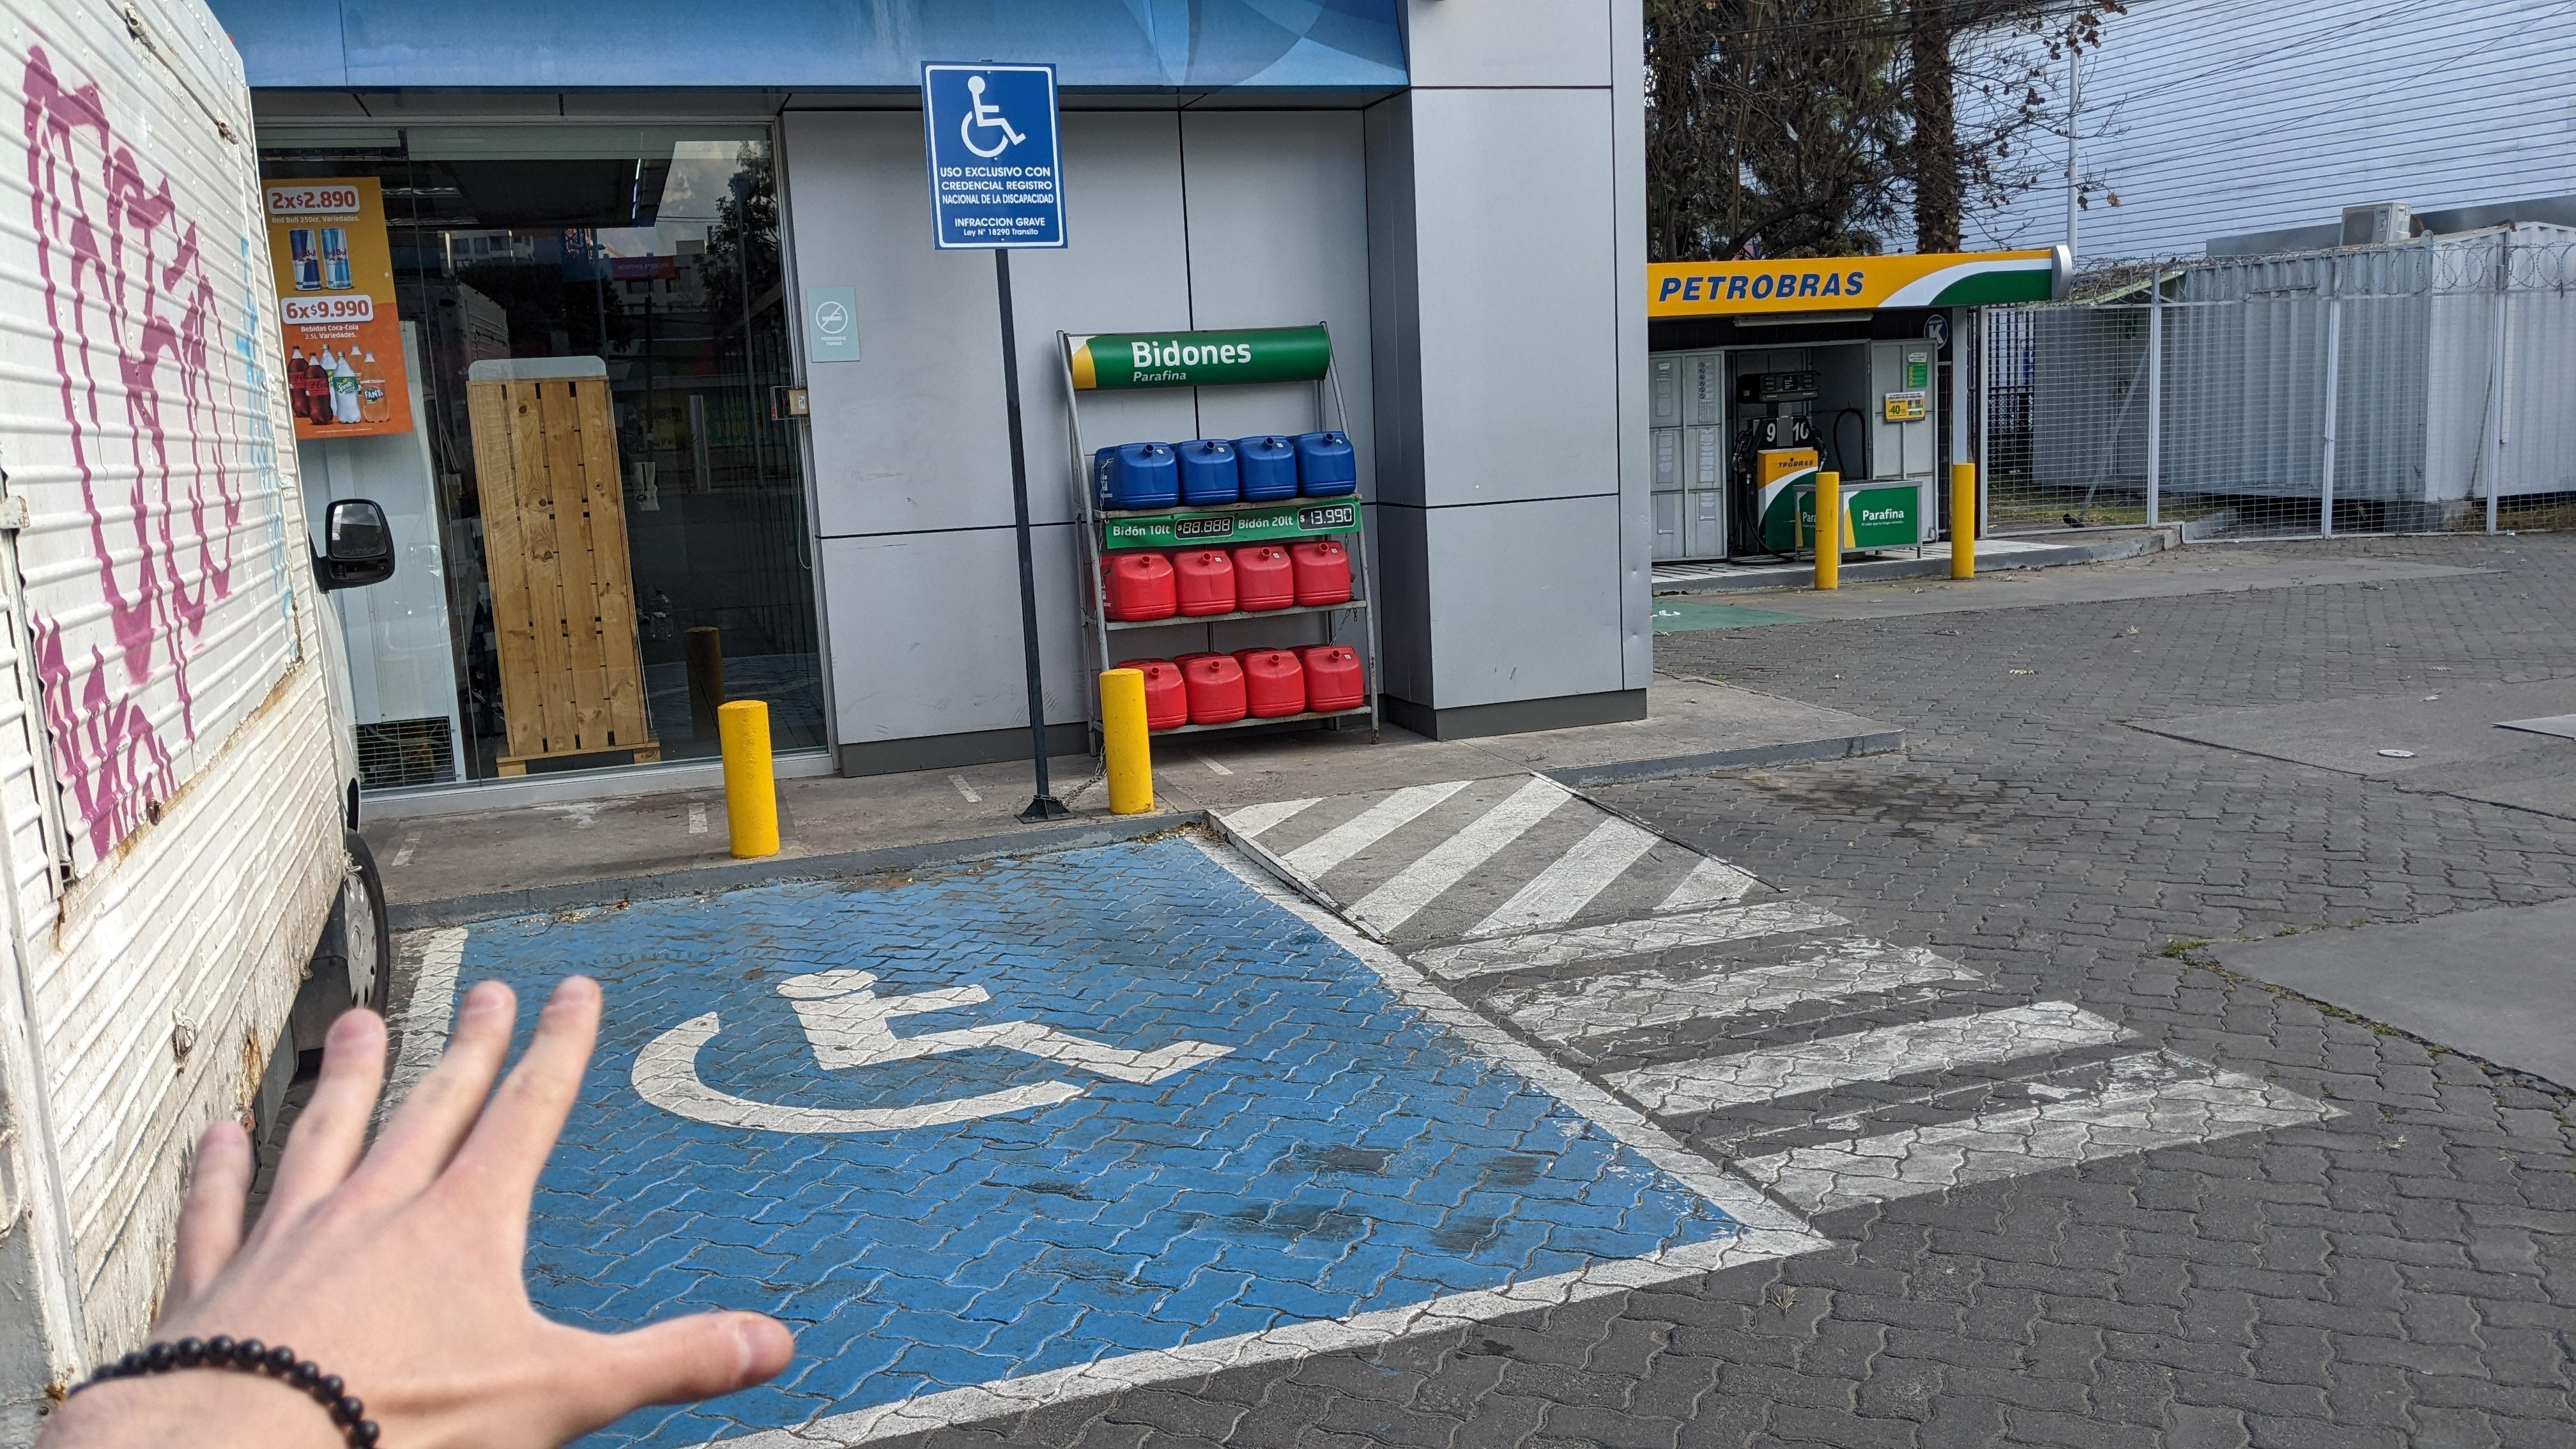handicapped symbol: (629, 965, 1244, 1144), (960, 75, 1027, 159)
